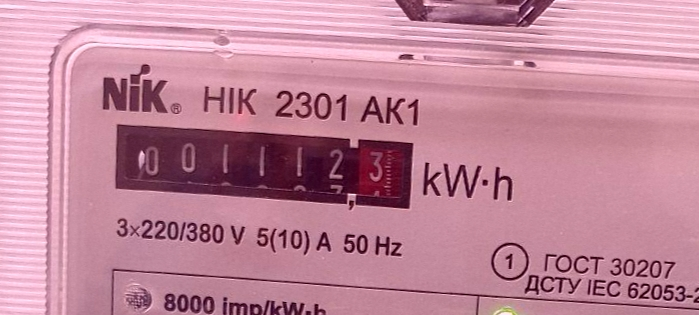0: (175, 137, 200, 177), (138, 141, 164, 177)
1: (214, 138, 235, 177), (252, 140, 269, 179), (290, 142, 307, 180)
2: (323, 145, 348, 183)
3: (364, 148, 385, 184)
screen: (103, 110, 422, 221)
